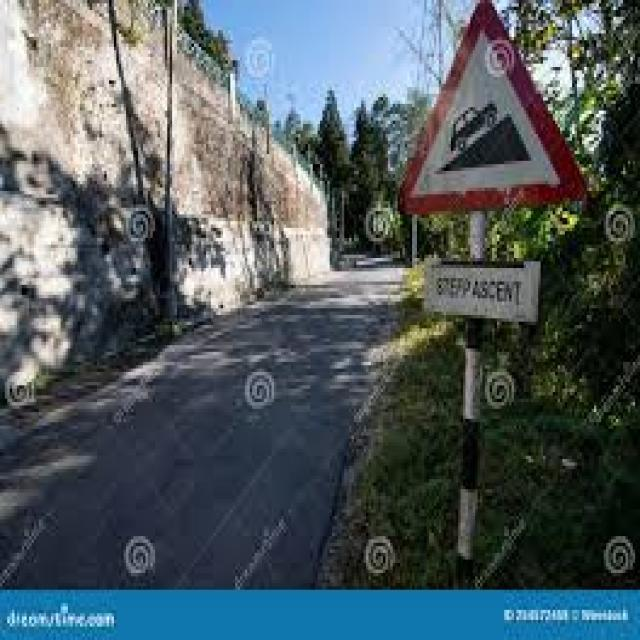steep ascent: (397, 10, 596, 217)
